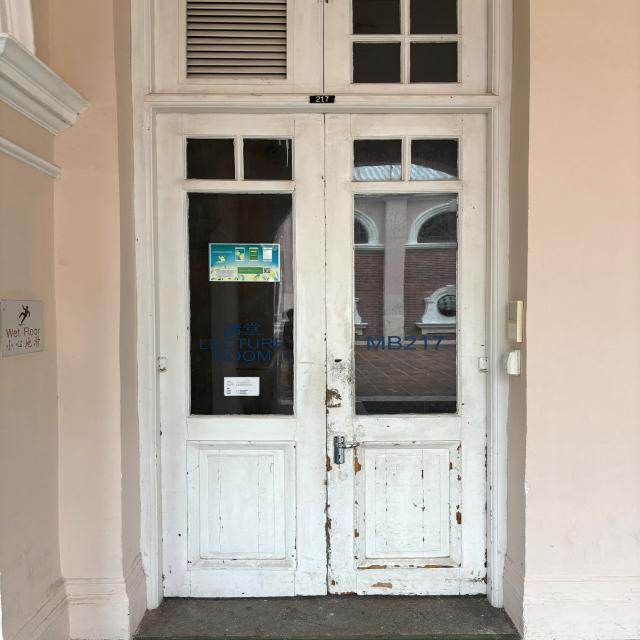MB217_roomNumber: (307, 92, 338, 108)
MB217_wordsOnWindow: (363, 330, 448, 356)
